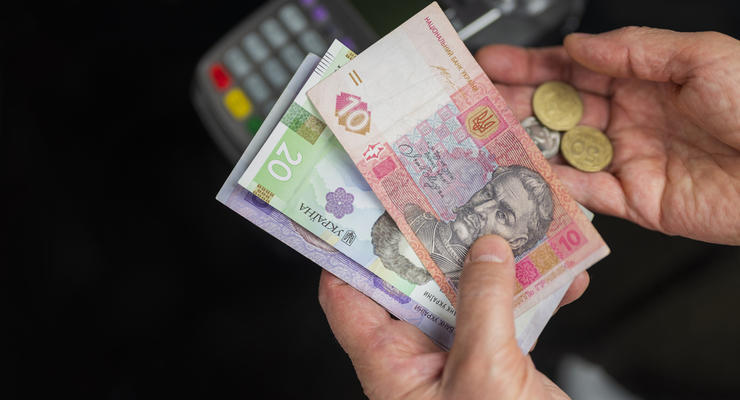bn_10: (306, 43, 713, 321)
bn_20: (237, 161, 487, 258)
bn_50: (214, 190, 654, 344)
coin_50: (564, 133, 613, 170)
